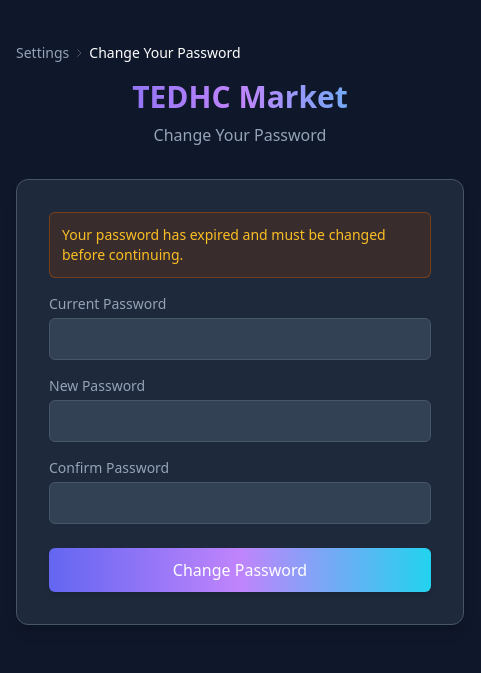
ChangePassword › shows error from changePassword
Type "wrongpass" into the password field with test id "current-password-input". click: coordinates (240, 339)
box: [49, 318, 431, 360]
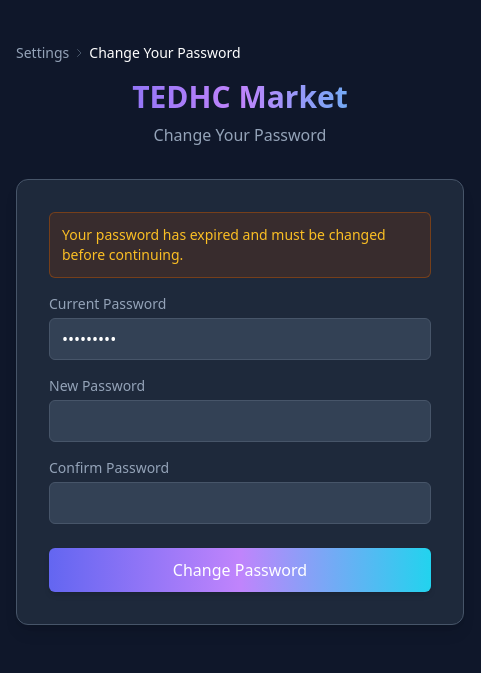
Type "newstrongpass" into the password field with test id "new-password-input". click: coordinates (240, 421)
box: [49, 400, 431, 442]
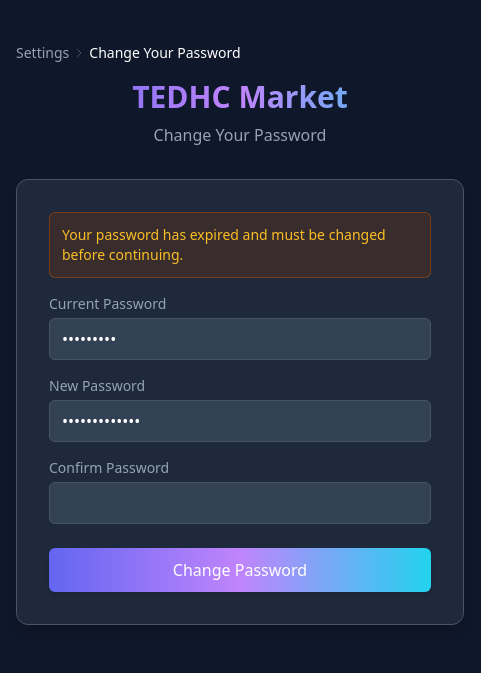
Type "newstrongpass" into the password field with test id "confirm-password-input". click: coordinates (240, 503)
box: [49, 482, 431, 524]
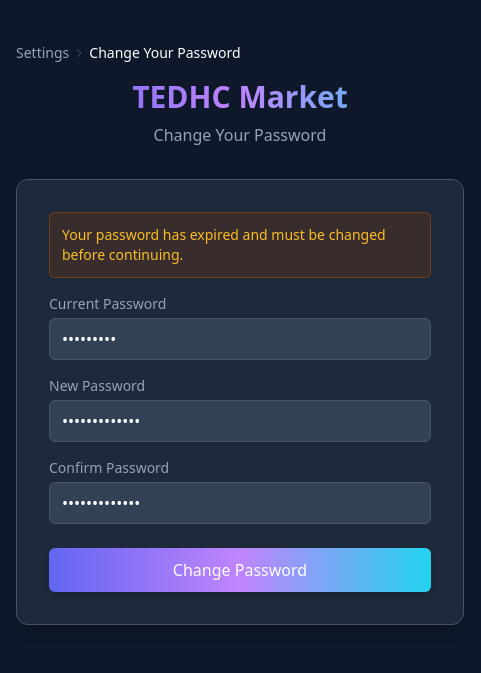
Click the button with test id "change-password-submit". click: coordinates (240, 570)
box: [49, 548, 431, 592]
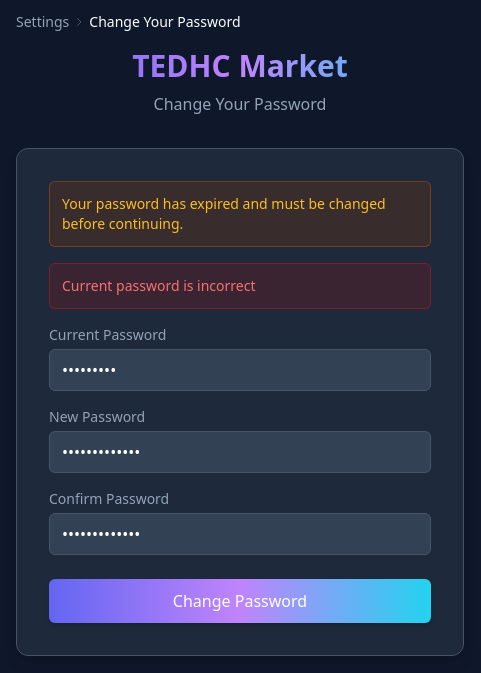
Now the text "Current password is incorrect" is shown, box [49, 263, 431, 309]
